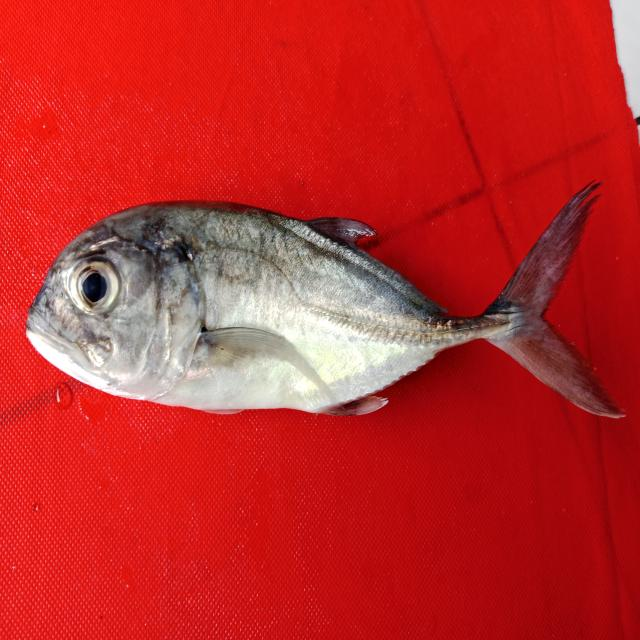ikan: (19, 177, 630, 435)
